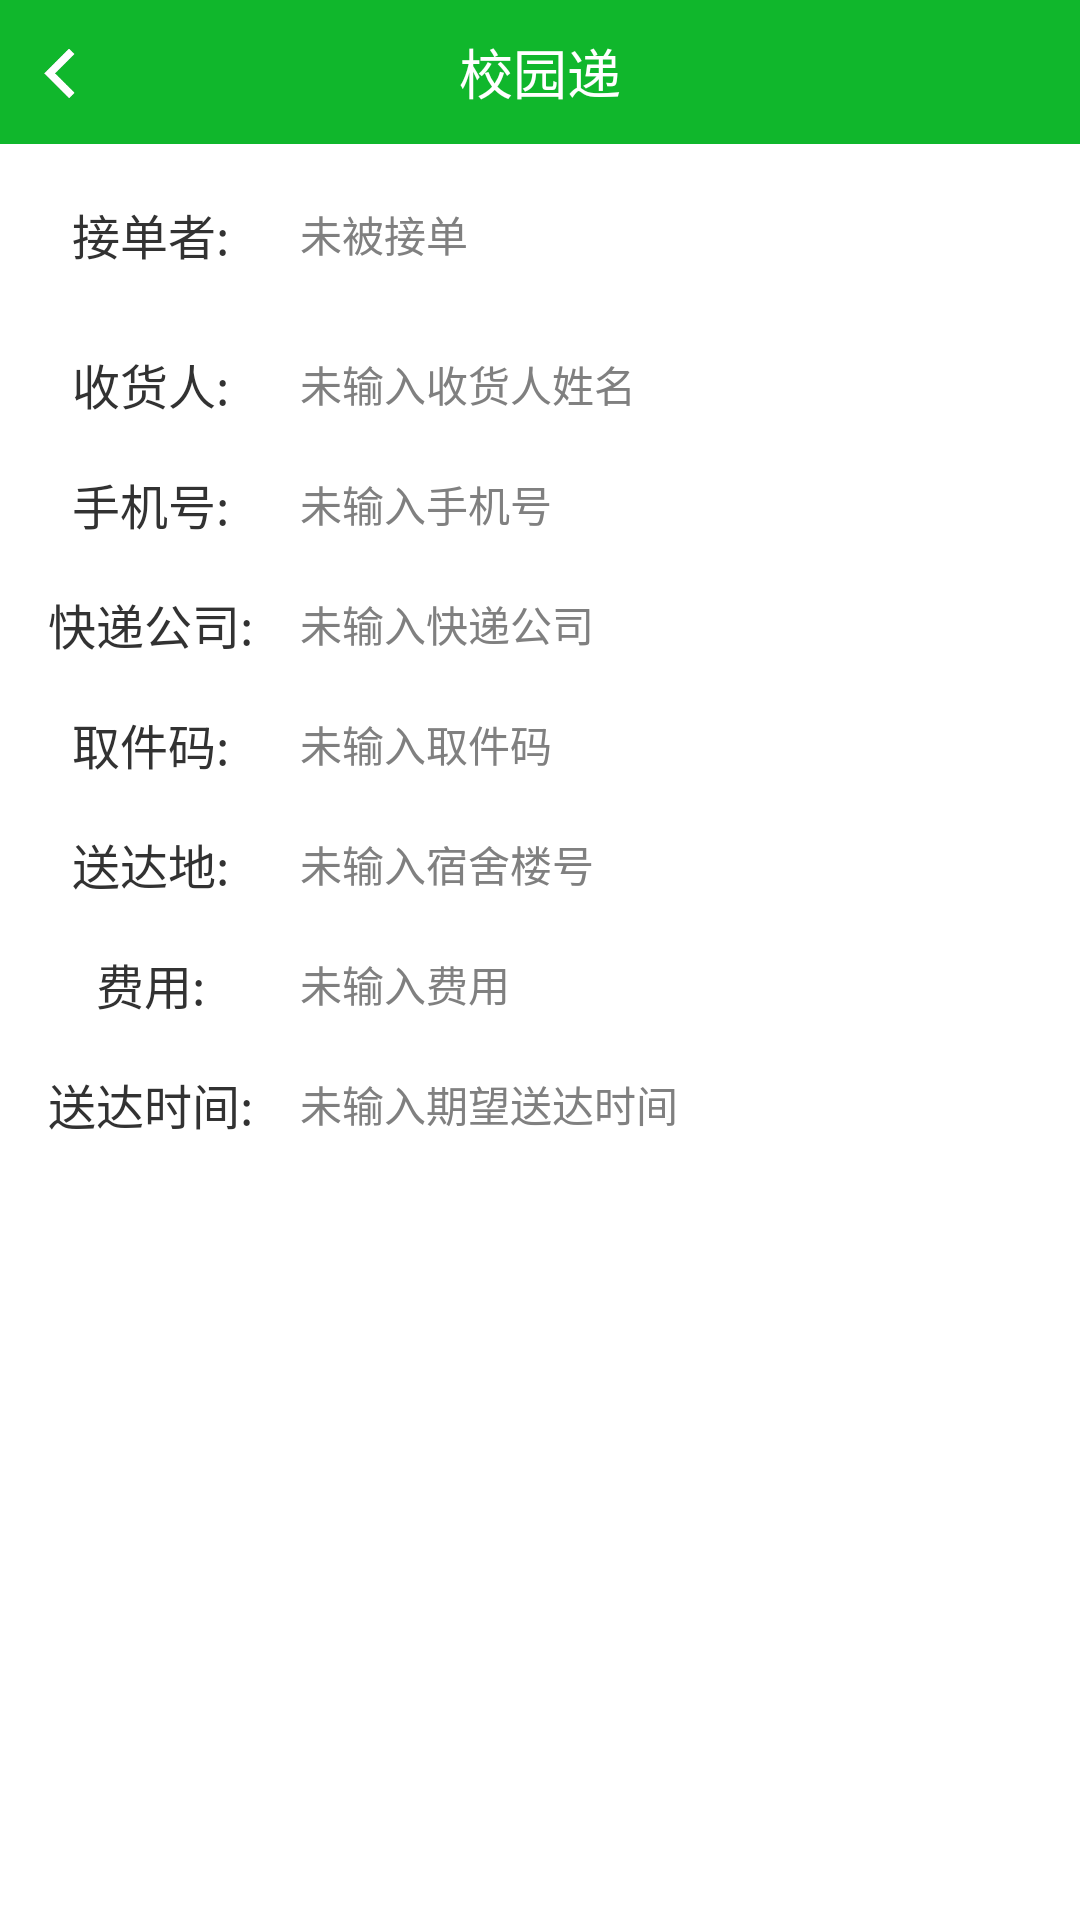

Named icons in this screenshot (1080px x 1920px) and their bounding boxes, (x1, y1, x2, y2):
back: (44, 49, 75, 98)
